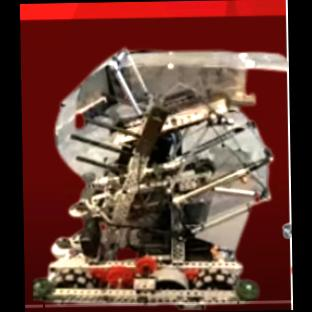Robot: (33, 47, 288, 309)
